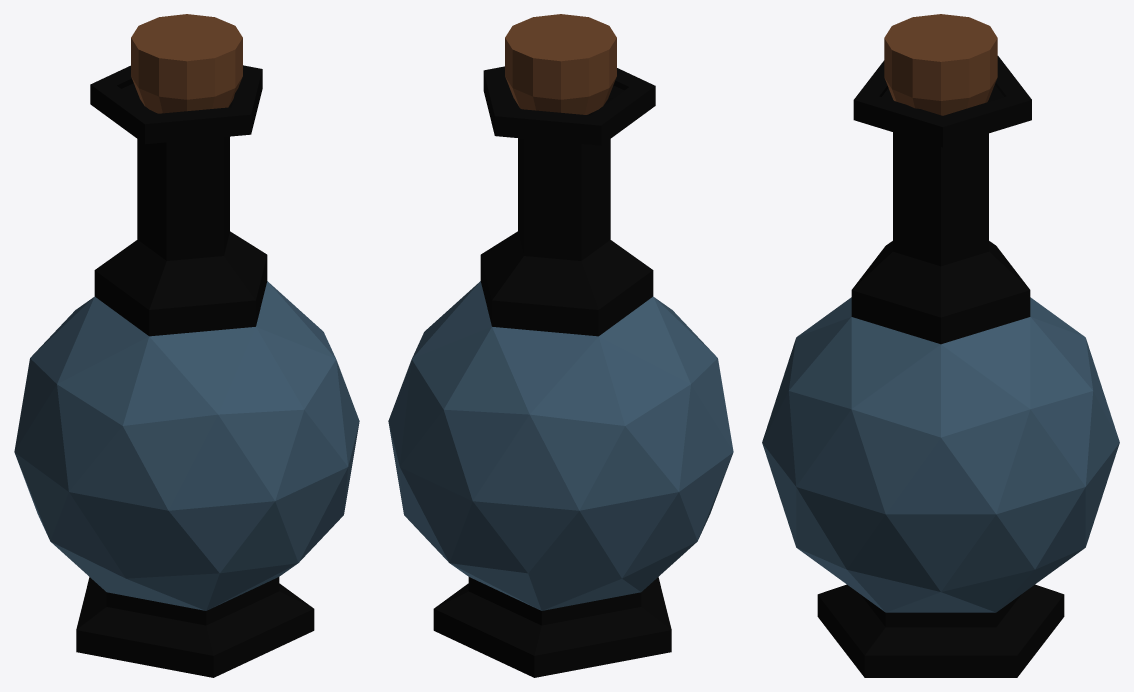
File: potion.fbx
The picture shows the model from 3 angles, left to right: view 1: azimuth 30°, elevation 25°; view 2: azimuth 150°, elevation 25°; view 3: azimuth 270°, elevation 25°; orthographic projection.
Visible parts, largest first — view 1: Icosphere, Cylinder; view 2: Icosphere, Cylinder; view 3: Icosphere, Cylinder.
Boxes of the visible parts, x1=… form: Icosphere: x1=14, y1=65, x2=359, y2=677; Cylinder: x1=131, y1=14, x2=242, y2=113; Icosphere: x1=388, y1=66, x2=733, y2=677; Cylinder: x1=505, y1=14, x2=616, y2=114; Icosphere: x1=762, y1=56, x2=1119, y2=677; Cylinder: x1=884, y1=14, x2=997, y2=115.
Bounding box in the file's own units: 190 × 367 × 200.
